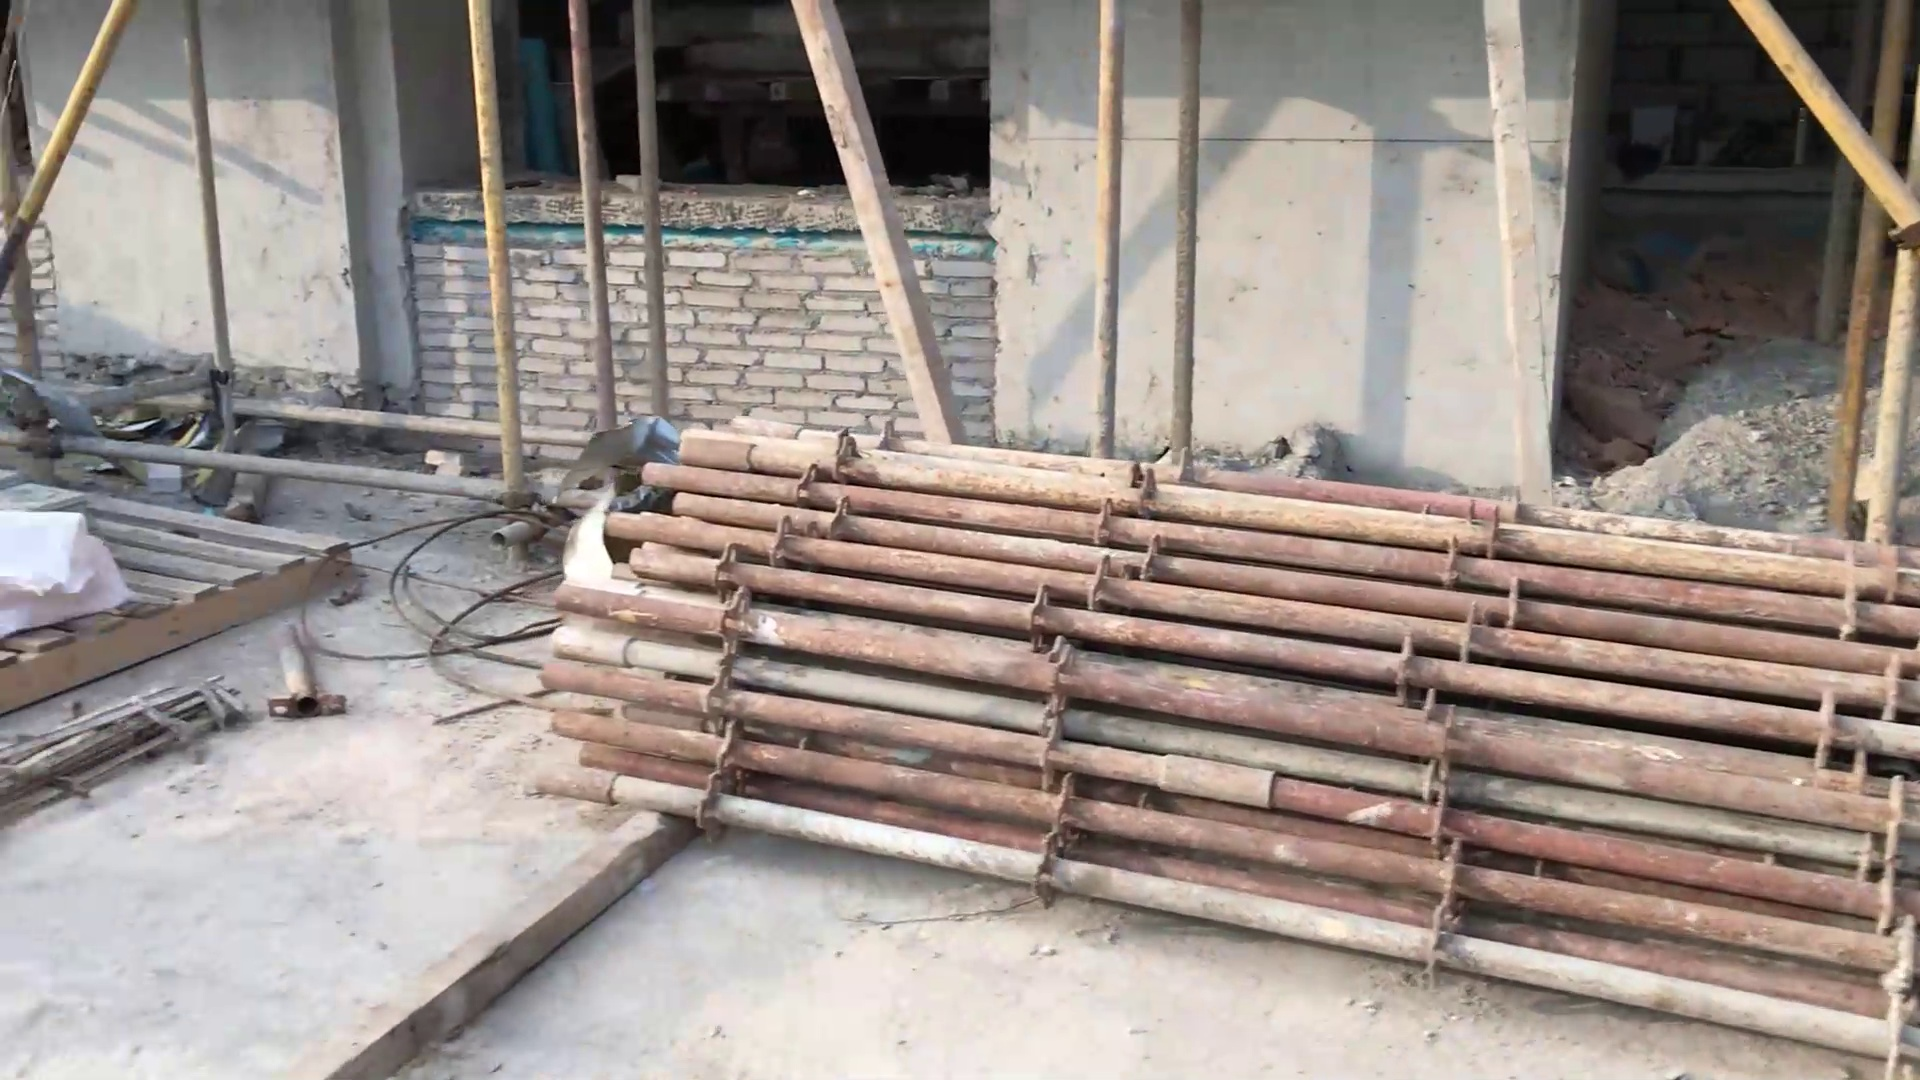scaffold: (525, 419, 1920, 1080)
